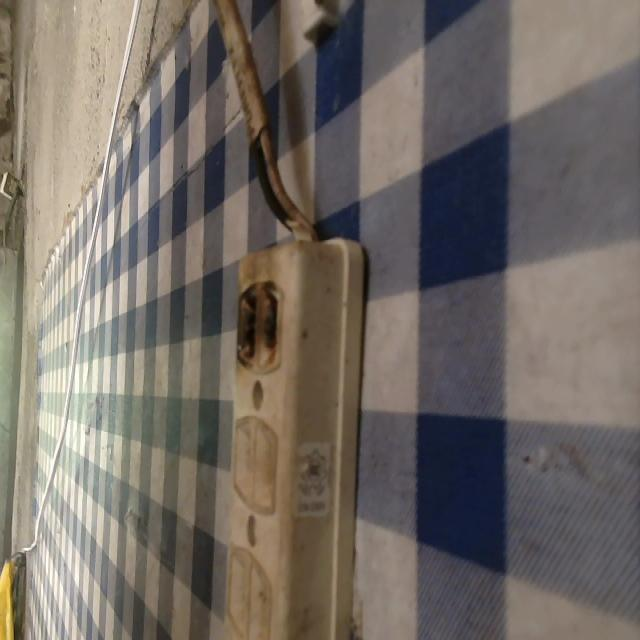-: (228, 277, 290, 359)
